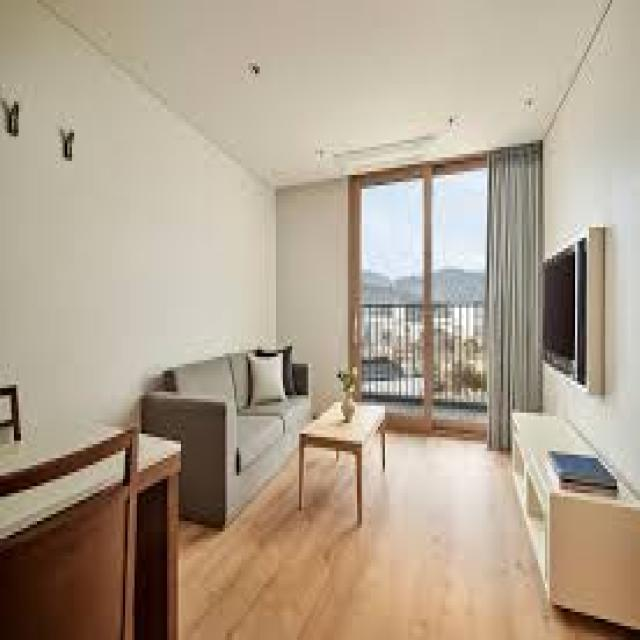Sofa: (145, 348, 306, 520)
Table: (301, 391, 387, 527)
tv: (539, 249, 601, 387)
window: (348, 178, 516, 394)
